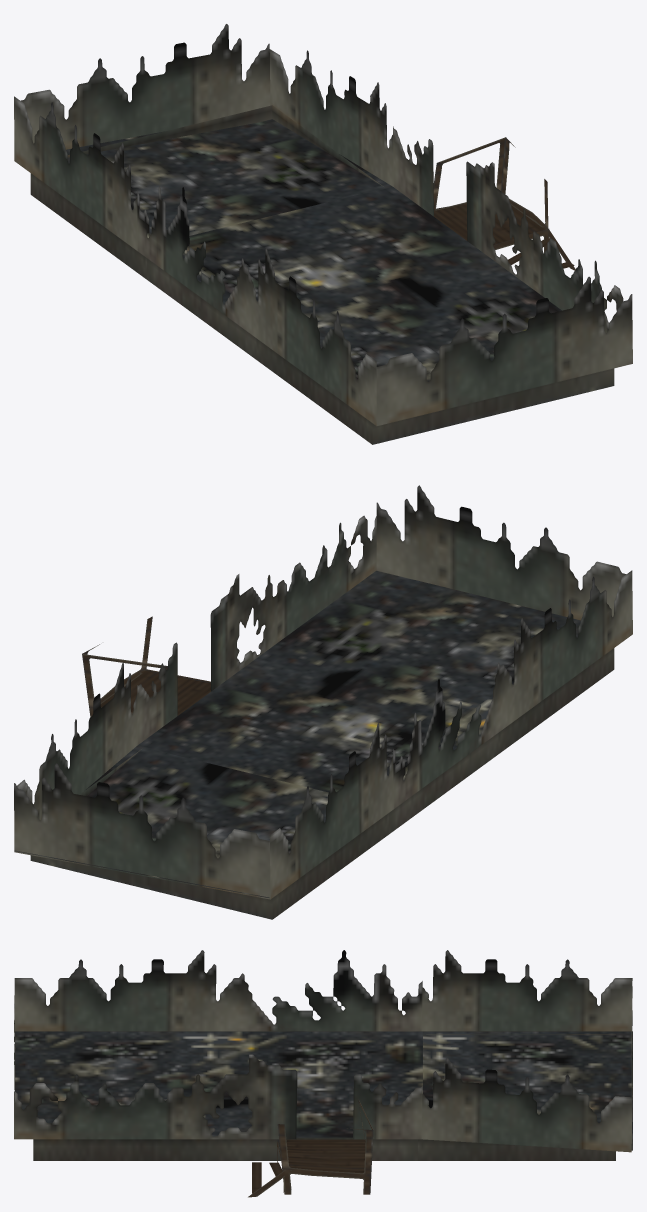
Rendered from portable_dam.glb.
The picture shows the model from 3 angles, top to bottom: view 1: azimuth 30°, elevation 25°; view 2: azimuth 150°, elevation 25°; view 3: azimuth 270°, elevation 25°; orthographic projection. The views are drawn at different scales.
Visible parts, largest first — view 1: PortableDam; view 2: PortableDam; view 3: PortableDam.
Boxes of the visible parts, x1=… form: PortableDam: x1=14, y1=24, x2=632, y2=444; PortableDam: x1=14, y1=485, x2=632, y2=919; PortableDam: x1=14, y1=950, x2=632, y2=1197.
Bounding box in the file's own units: 7.9 × 2.84 × 14.61.
1 material, 1 textured.
